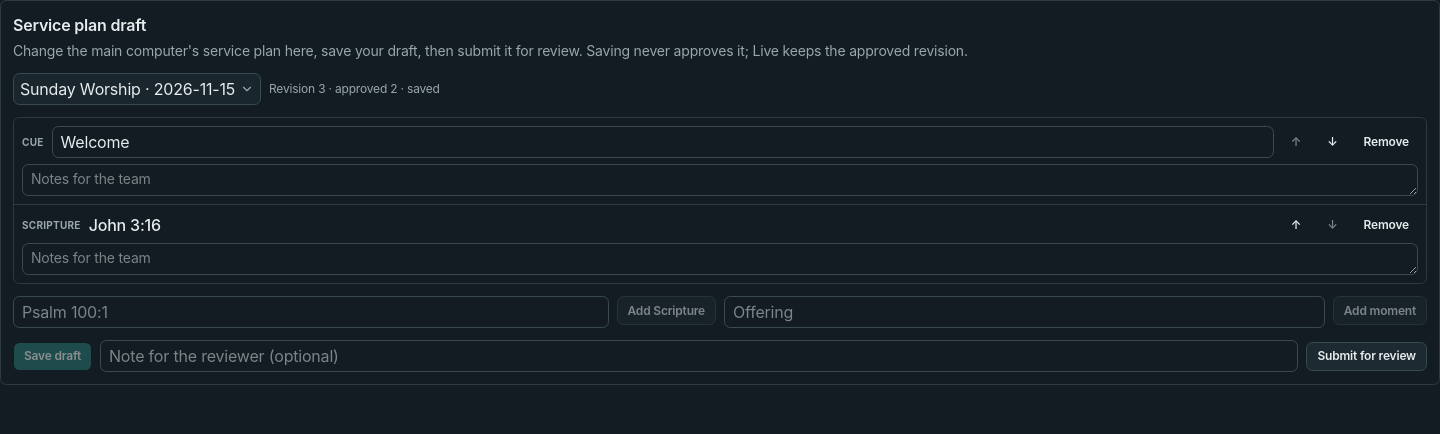
Scenario: joined Editor plan draft (#847) › says a 403 in plain words
Step 1. Click the button "Submit for review" → (1367, 356), box [1306,342,1427,370]
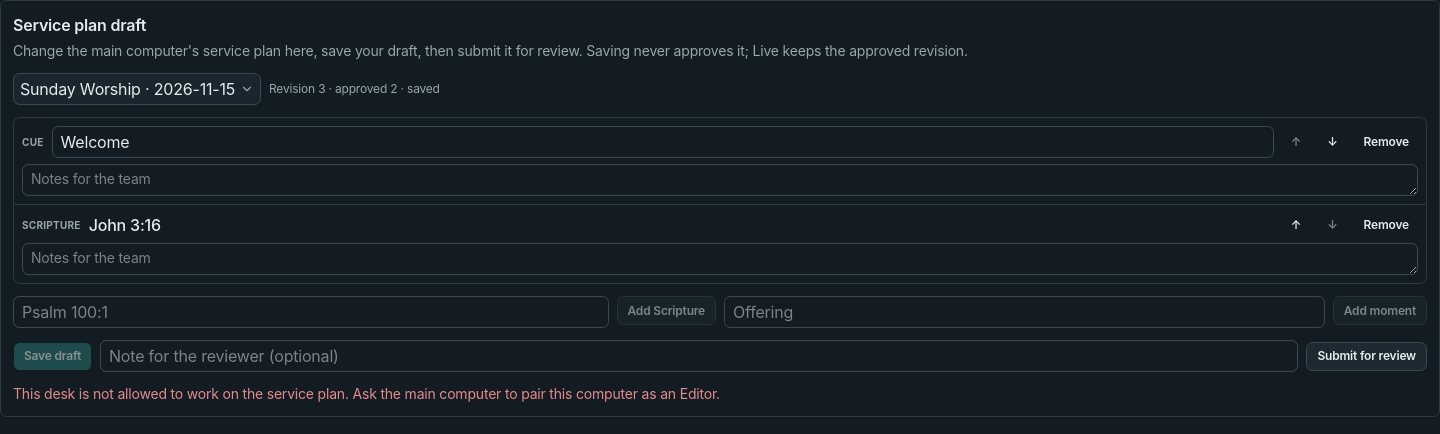
Check: the message named "Plan draft result" shows "This desk is not allowed to work on the service plan. Ask the main computer to pair this computer as an Editor.", box [13,385,720,402]
